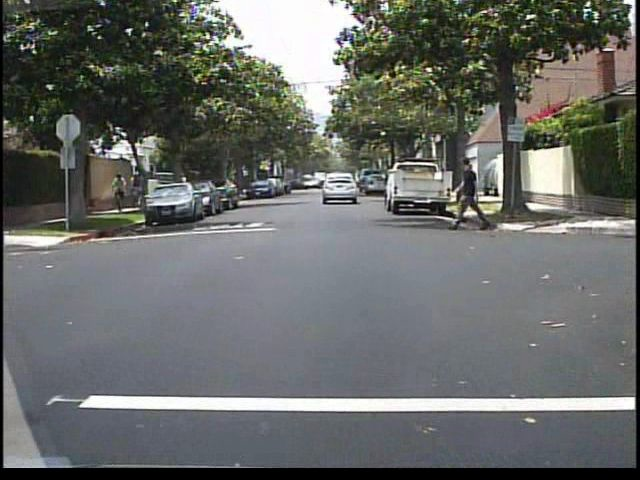person: (451, 153, 494, 235), (109, 169, 132, 208), (126, 167, 149, 203), (464, 162, 482, 201), (174, 169, 192, 208)
